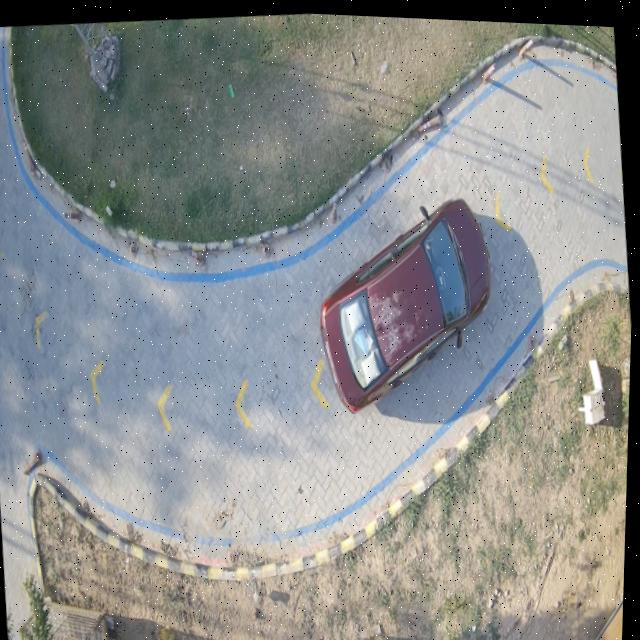car: (320, 195, 494, 412)
